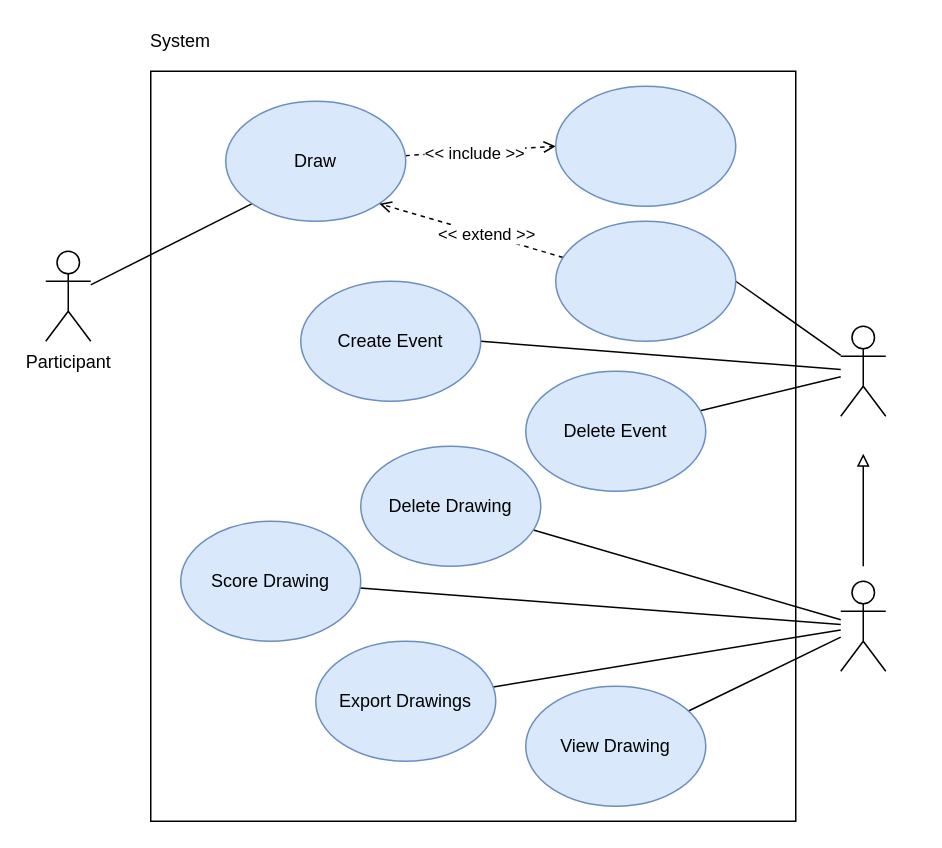
Some shapes in this 942 by 848 pixel diagram are drawn without their labels. The shapes that lost their labels are listed below. From the top down, each one's box as (x1, y1, x2, y2) in pixels, then its label:
(554, 85, 736, 206): Save Drawing
(554, 220, 736, 341): Set up drawing session
(839, 325, 886, 416): Event Leader
(839, 580, 886, 671): Scorer
